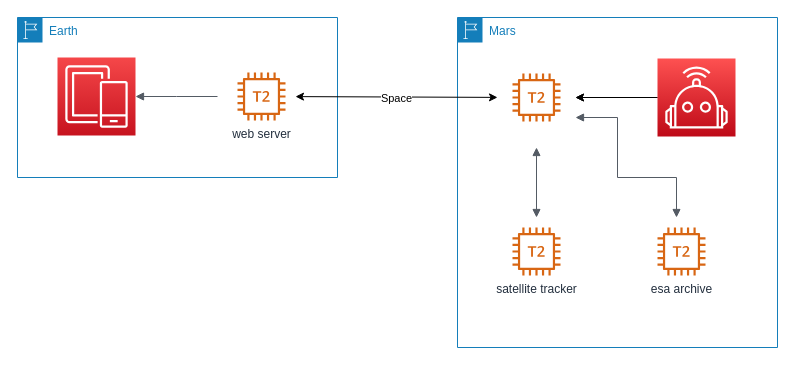
Some shapes in this 795 by 373 pixel diagram are drawn without their labels. Each missing label, with the box of its shape:
frontend: (56, 56, 136, 136)
router: (512, 73, 560, 121)
rover: (656, 58, 736, 136)
